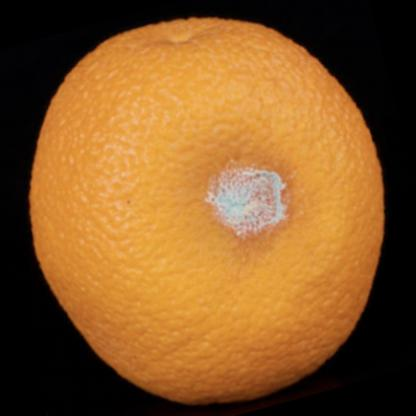rotten_orange: (27, 10, 403, 409)
